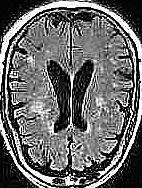Normal_Brain: (1, 1, 142, 188)
